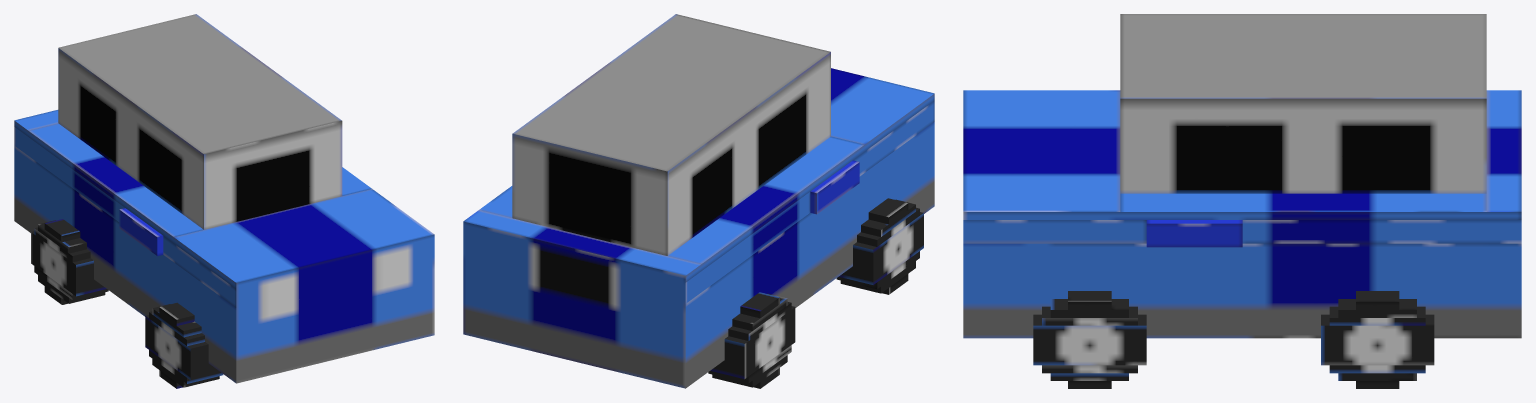
File: car_2.fbx
The picture shows the model from 3 angles, left to right: view 1: azimuth 30°, elevation 25°; view 2: azimuth 150°, elevation 25°; view 3: azimuth 270°, elevation 25°; orthographic projection. The views are drawn at different scales.
Visible parts, largest first — view 1: body, back_right_wheel, back_left_wheel; view 2: body, back_left_wheel, back_right_wheel; view 3: body, front_left_wheel, front_right_wheel.
Part boxes in pixels (x1,y1,x2,y2): body: (14,14,434,383); back_right_wheel: (145,302,223,388); back_left_wheel: (31,219,108,304); body: (463,14,934,388); back_left_wheel: (708,292,795,388); back_right_wheel: (836,198,923,294); body: (963,14,1521,338); front_left_wheel: (1321,291,1434,388); front_right_wheel: (1033,291,1146,388).
Bounding box in the file's own units: 39 × 33 × 64.
1 material, 1 textured.
